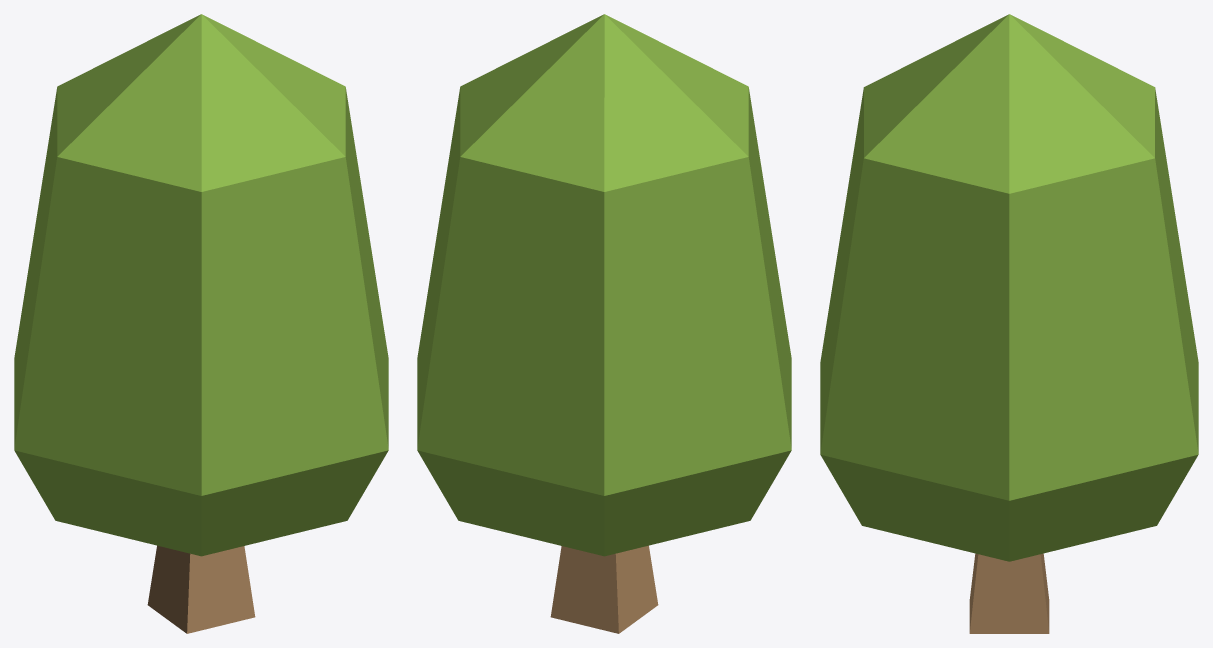
File: kenney-tree-020.obj
The picture shows the model from 3 angles, left to right: view 1: azimuth 30°, elevation 25°; view 2: azimuth 150°, elevation 25°; view 3: azimuth 270°, elevation 25°; orthographic projection.
Parts seen in each view (by area): view 1: Mesh1 Group1 Model; view 2: Mesh1 Group1 Model; view 3: Mesh1 Group1 Model.
Boxes of the visible parts, x1,y1,x2,y2 form: Mesh1 Group1 Model: [14, 14, 388, 633]; Mesh1 Group1 Model: [417, 14, 791, 633]; Mesh1 Group1 Model: [820, 14, 1198, 633].
Size of the model in its own units: 1.72 by 2.62 by 1.49.
Materials: 2 (2 with a texture image).
